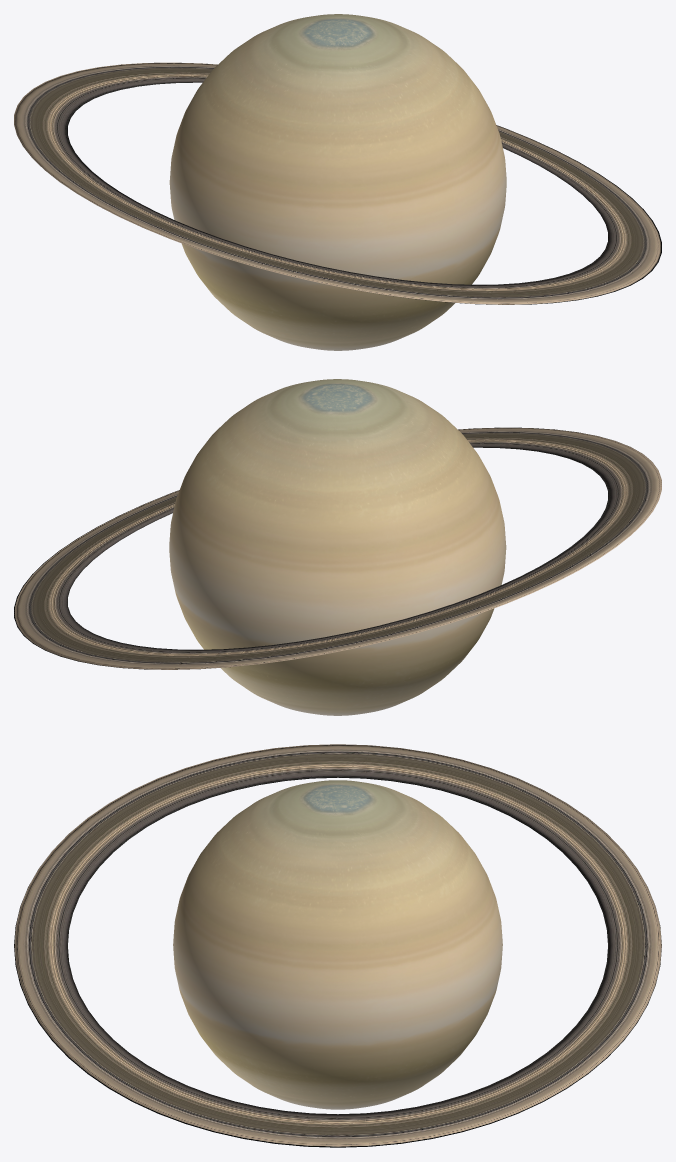
The model's file is saturn.obj.
3 renders of one model, top to bottom at view 1: azimuth 30°, elevation 25°; view 2: azimuth 150°, elevation 25°; view 3: azimuth 270°, elevation 25°, orthographic. The views are drawn at different scales.
Parts seen in each view (by area): view 1: Sphere_Material.002_0_Sphere_Material.002_0.008, Circle_ring_0_Circle_ring_0.002; view 2: Sphere_Material.002_0_Sphere_Material.002_0.008, Circle_ring_0_Circle_ring_0.002; view 3: Sphere_Material.002_0_Sphere_Material.002_0.008, Circle_ring_0_Circle_ring_0.002.
Part boxes in pixels (x1,y1,x2,y2): Sphere_Material.002_0_Sphere_Material.002_0.008: [169, 14, 506, 350]; Circle_ring_0_Circle_ring_0.002: [14, 62, 661, 304]; Sphere_Material.002_0_Sphere_Material.002_0.008: [169, 379, 506, 715]; Circle_ring_0_Circle_ring_0.002: [14, 427, 661, 669]; Sphere_Material.002_0_Sphere_Material.002_0.008: [173, 780, 502, 1109]; Circle_ring_0_Circle_ring_0.002: [14, 744, 661, 1147].
Bounding box in the file's own units: 382 × 200 × 393.
2 materials, 2 textured.
